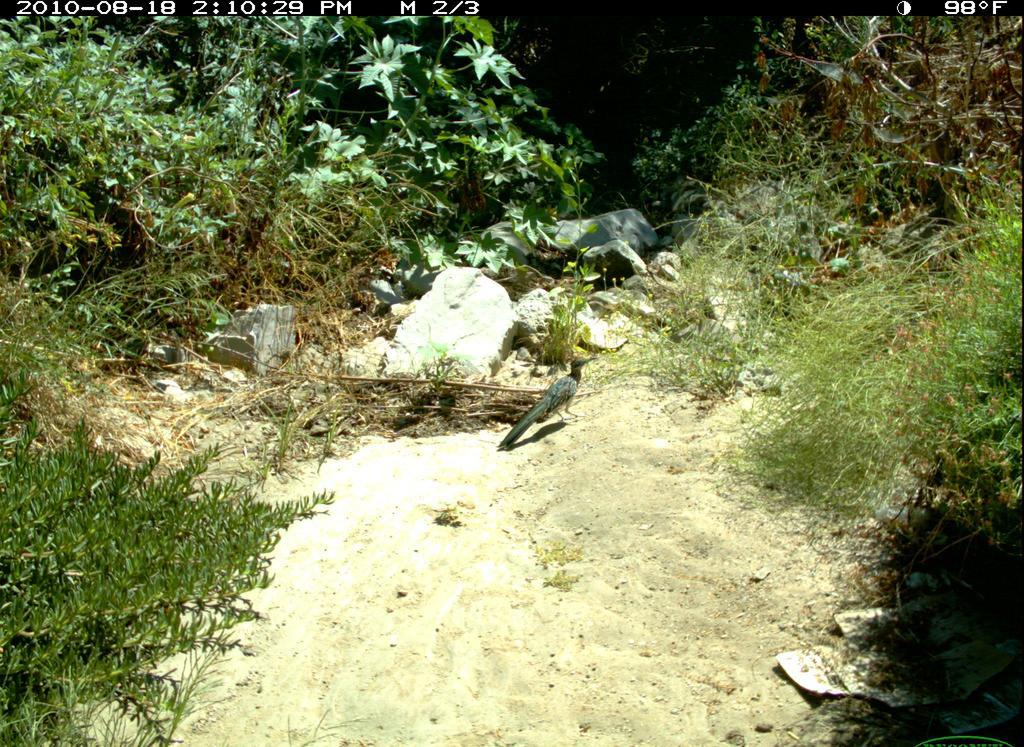bird: (495, 349, 601, 455)
